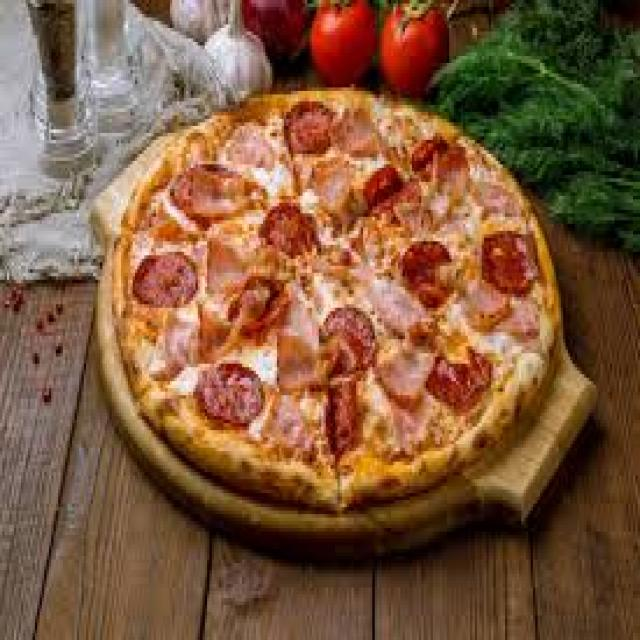피자: (91, 87, 566, 567)
